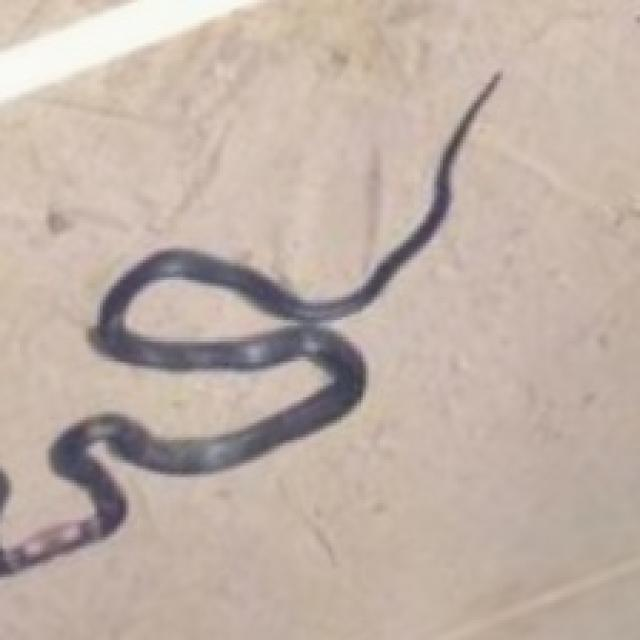king cobra: (0, 71, 500, 574)
